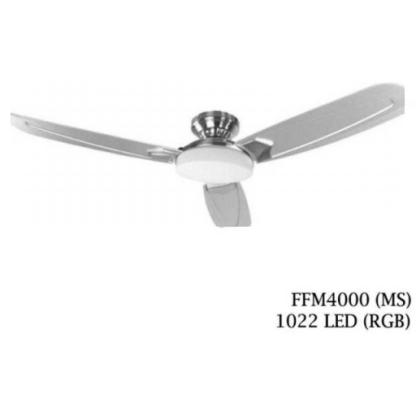ceiling-fan: (11, 82, 406, 228)
